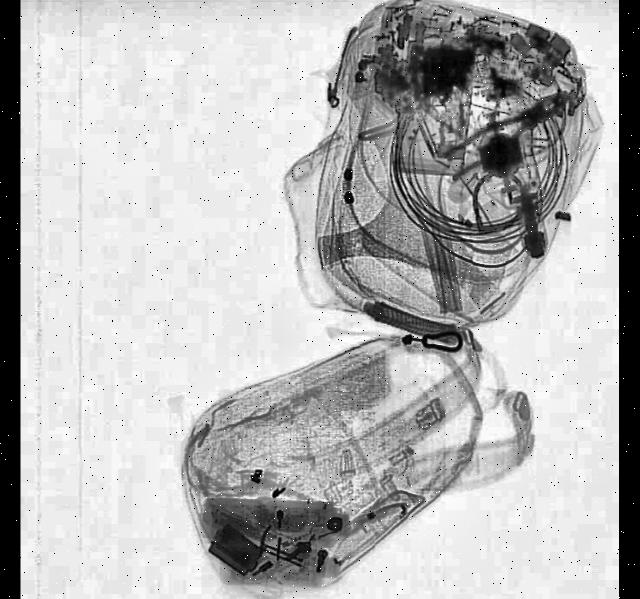Pliers: (439, 74, 576, 182)
